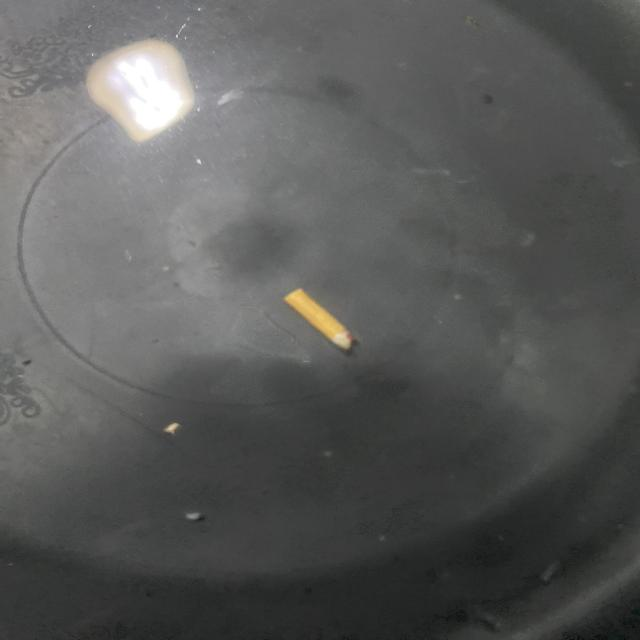Cigarette Filter: (284, 289, 357, 353)
